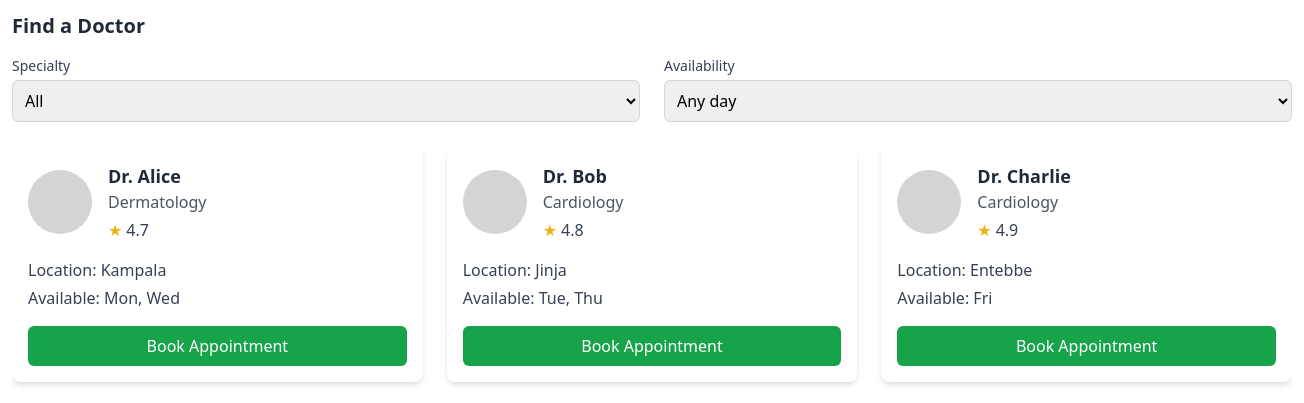
Test: DoctorsDirectory › shows message when no doctors match filters
The image size is (1304, 403).
Step 1. Select "Cardiology" in the dropdown labelled "Specialty" → (326, 101), box x1=12 y1=80 x2=640 y2=122
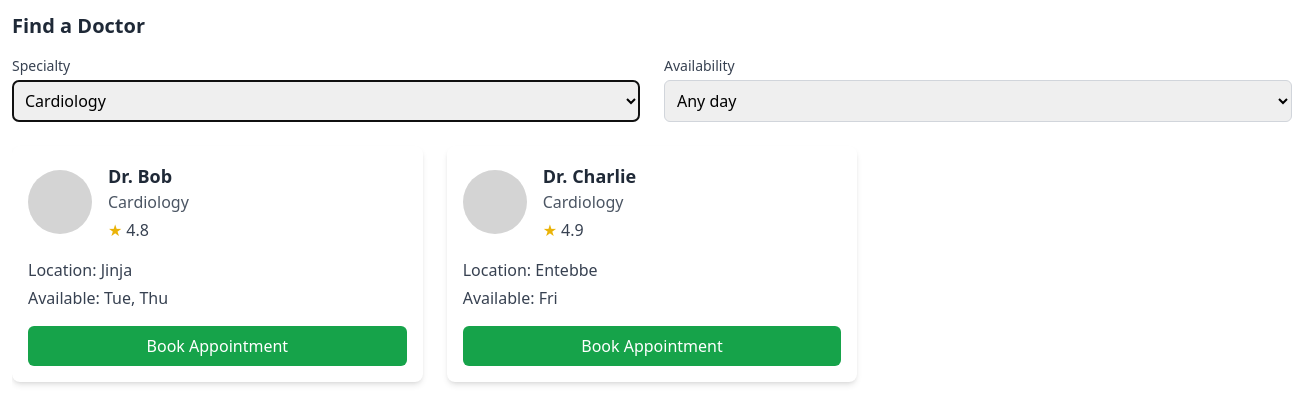
Step 2. Select "Wednesday" in the dropdown labelled "Availability" → (978, 101), box x1=664 y1=80 x2=1292 y2=122
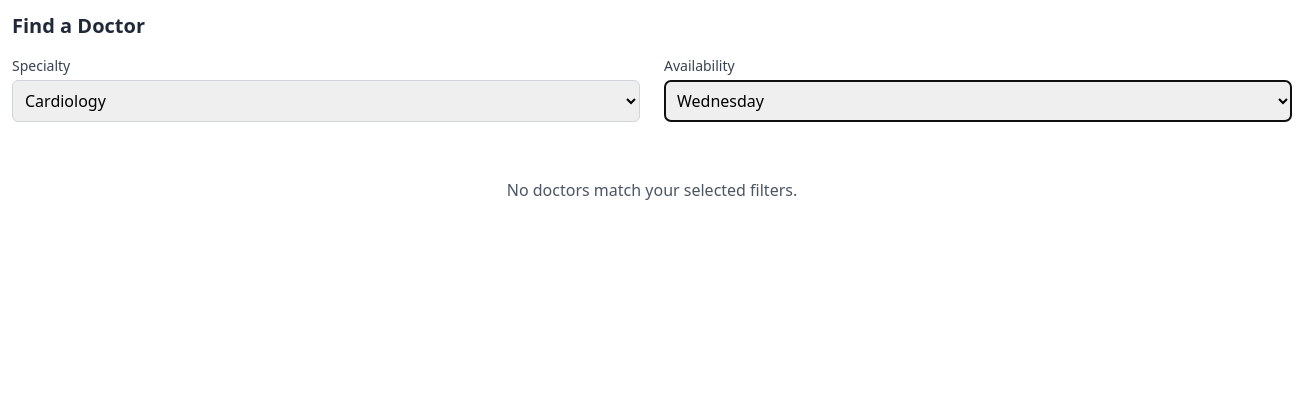
Result: the text "No doctors match your selected filters." is shown at x1=507 y1=179 x2=797 y2=201
